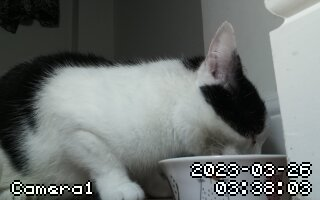bad: (4, 26, 271, 200)
